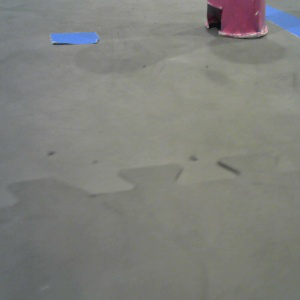right: (204, 1, 268, 37)
